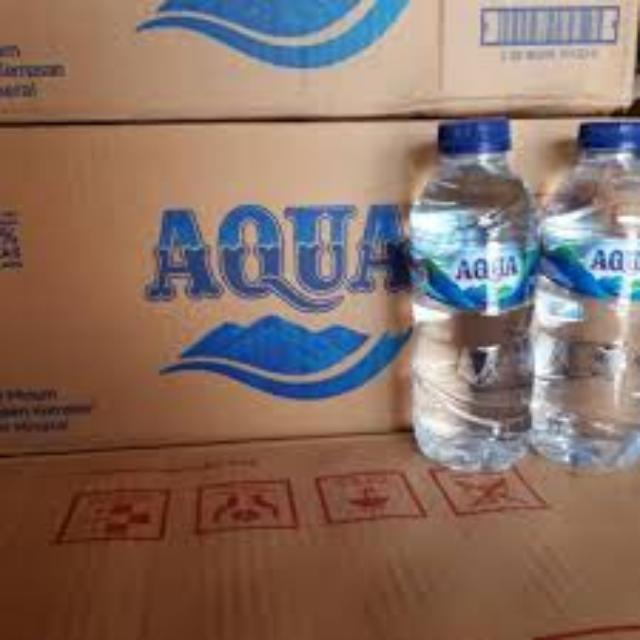trash: (405, 112, 539, 478), (528, 122, 640, 480)
